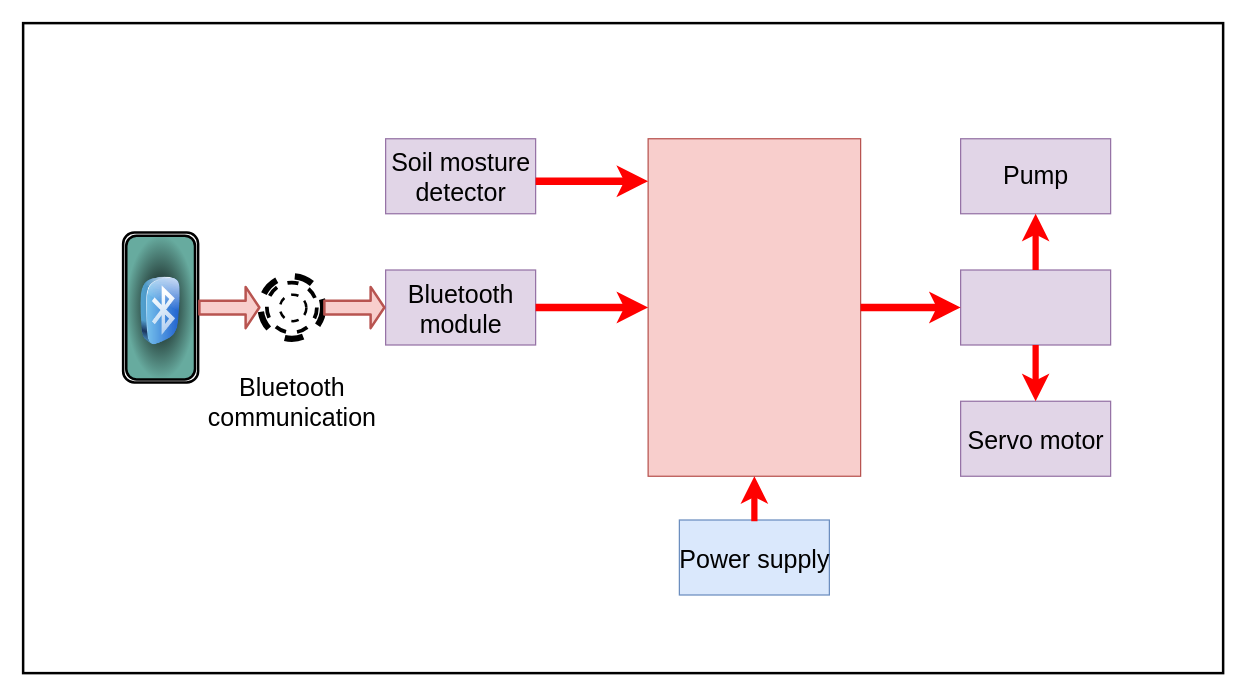
The diagram is 1245 pixels wide and 695 high, and some of its shapes have lost their labels. Each missing label, with the centre of its shape:
ARDUINO UNO: the point at 754,307
Relay module: the point at 1035,307
